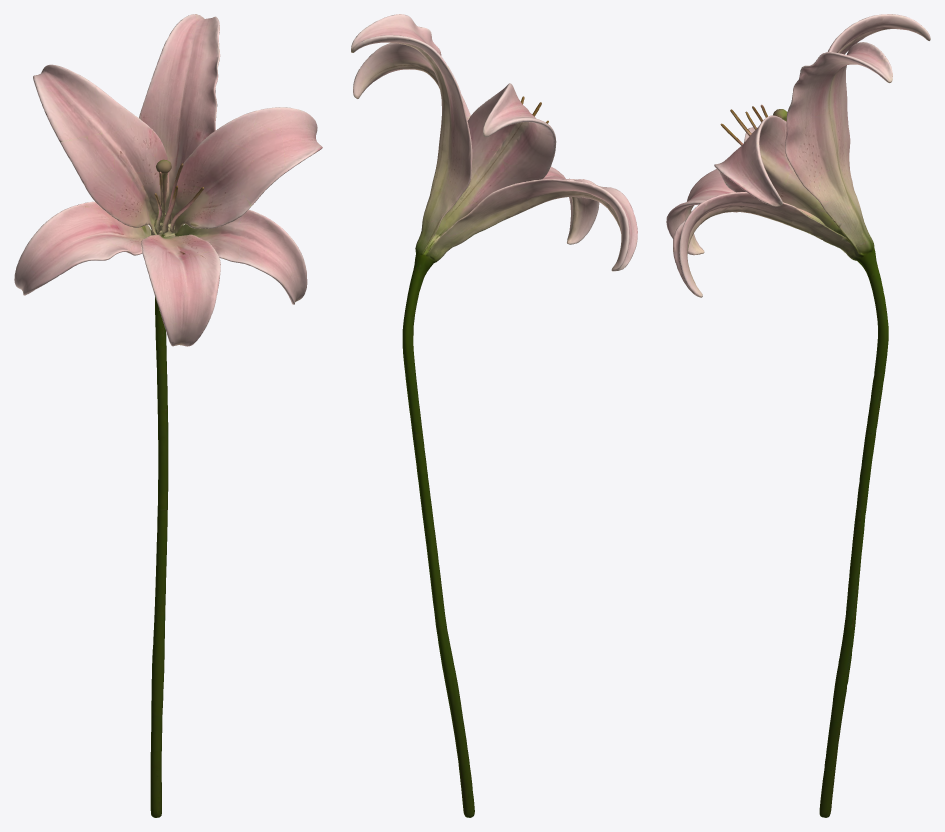
File: pink.glb
The picture shows the model from 3 angles, left to right: view 1: azimuth 30°, elevation 25°; view 2: azimuth 150°, elevation 25°; view 3: azimuth 270°, elevation 25°; orthographic projection. The views are drawn at different scales.
Bounding box in the file's own units: 0.7334 × 1.9 × 0.5706.
1 material, 1 textured.
